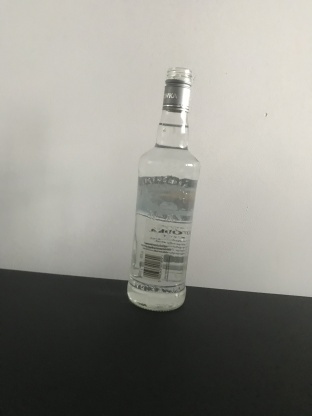nakretka: (160, 64, 193, 115)
